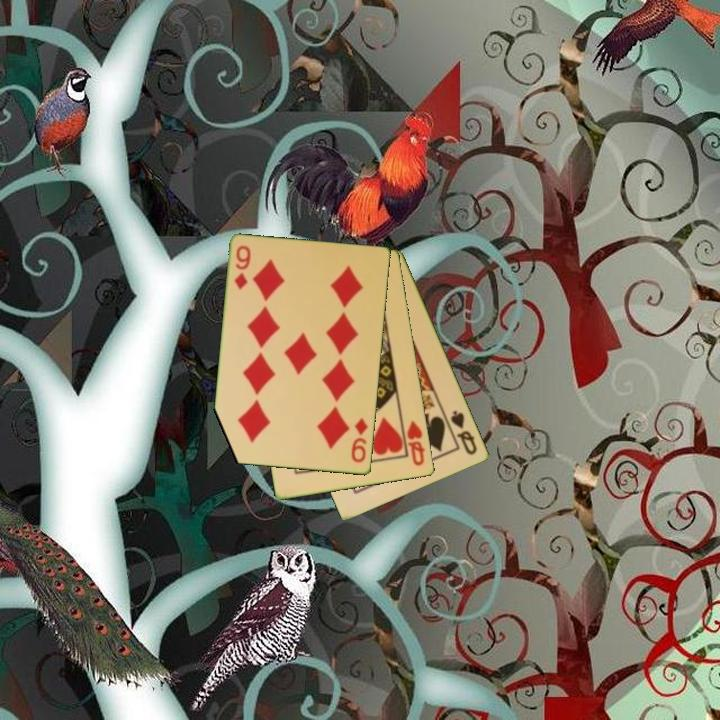9d: (348, 415, 371, 466), (231, 242, 254, 293)
Qh: (404, 417, 428, 469)
Qs: (447, 407, 480, 458)
